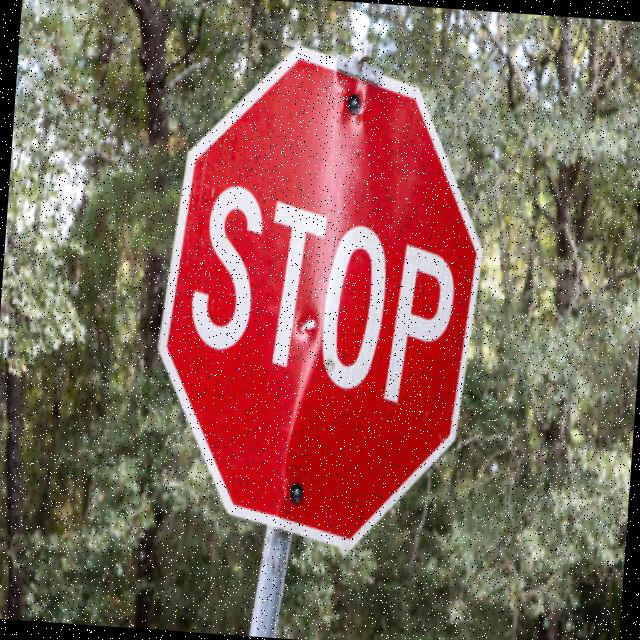stop: (142, 23, 501, 558)
